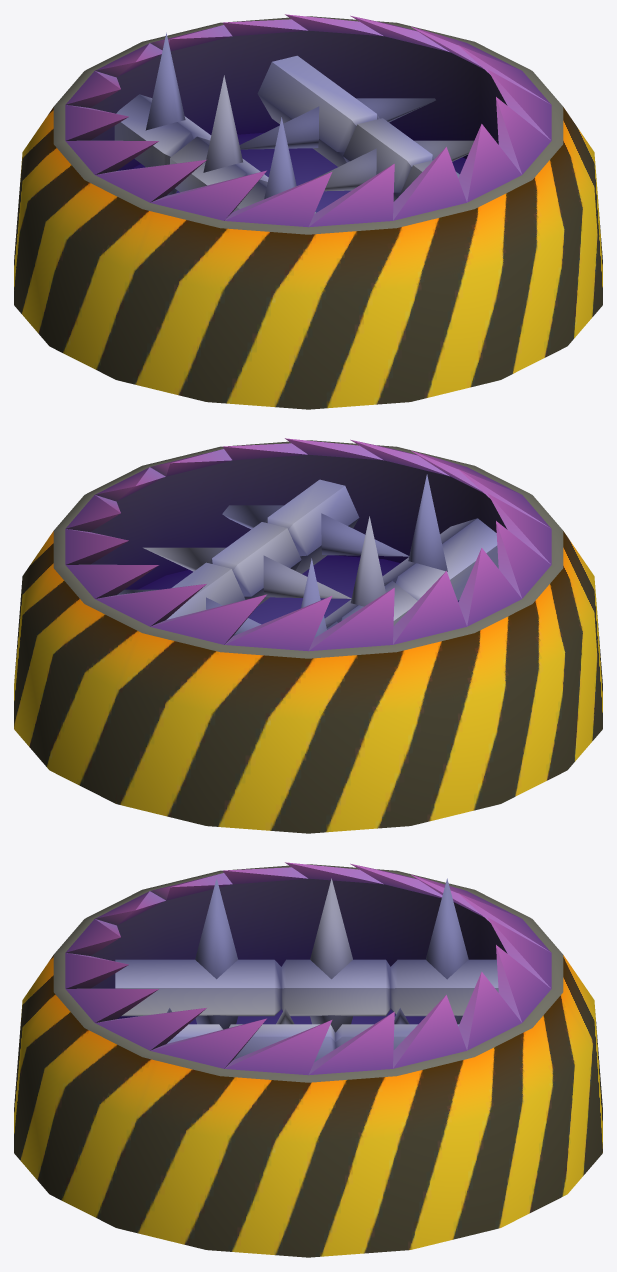
File: toy__grinder_ugc_a_000_1x1.glb
The picture shows the model from 3 angles, top to bottom: view 1: azimuth 30°, elevation 25°; view 2: azimuth 150°, elevation 25°; view 3: azimuth 270°, elevation 25°; orthographic projection.
Visible parts, largest first — view 1: Visual_2, Visual_6, Visual_8; view 2: Visual_2, Visual_6, Visual_8; view 3: Visual_2, Visual_8, Visual_6.
Boxes of the visible parts, x1,y1,x2,y2 form: Visual_2: [14, 14, 602, 409]; Visual_6: [239, 55, 496, 201]; Visual_8: [114, 32, 316, 213]; Visual_2: [14, 438, 602, 833]; Visual_6: [117, 479, 409, 635]; Visual_8: [301, 474, 498, 637]; Visual_2: [14, 862, 602, 1257]; Visual_8: [115, 878, 498, 1032]; Visual_6: [167, 1008, 459, 1062].
Size of the model in its own units: 4.78 by 1.94 by 4.7.
Materials: 2 (1 with a texture image).
